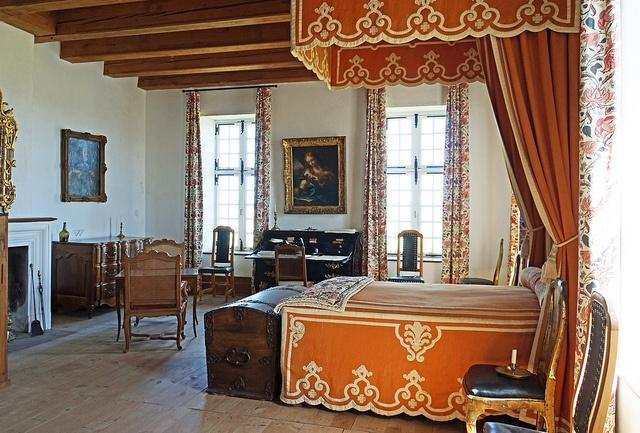Kursi: (461, 277, 566, 432), (124, 250, 187, 353), (197, 224, 235, 303), (387, 228, 424, 285)
